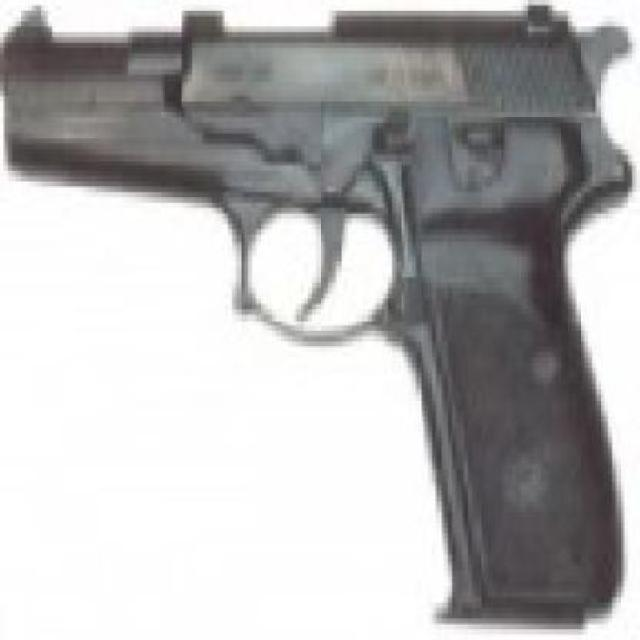gun: (4, 6, 628, 634)
